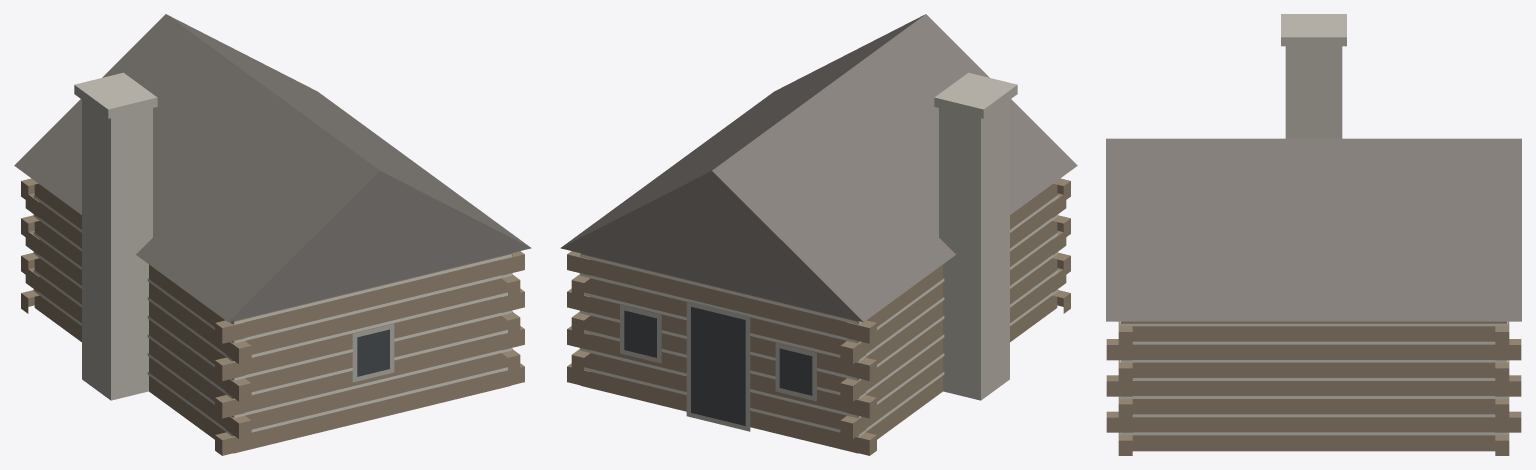
Rendered from recon_1835_blk_randolph_clark_d1_06__inferred_1835.glb.
3 renders of one model, left to right at view 1: azimuth 30°, elevation 25°; view 2: azimuth 150°, elevation 25°; view 3: azimuth 270°, elevation 25°, orthographic. The views are drawn at different scales.
Parts seen in each view (by area): view 1: recon_1835_blk_randolph_clark_d1_06__inferred_1835; view 2: recon_1835_blk_randolph_clark_d1_06__inferred_1835; view 3: recon_1835_blk_randolph_clark_d1_06__inferred_1835.
Boxes of the visible parts, box(x1,y1,x2,y2) form: recon_1835_blk_randolph_clark_d1_06__inferred_1835: box(14, 14, 531, 455); recon_1835_blk_randolph_clark_d1_06__inferred_1835: box(560, 14, 1077, 455); recon_1835_blk_randolph_clark_d1_06__inferred_1835: box(1106, 14, 1521, 455).
Size of the model in its own units: 6.35 by 5.42 by 7.06.
